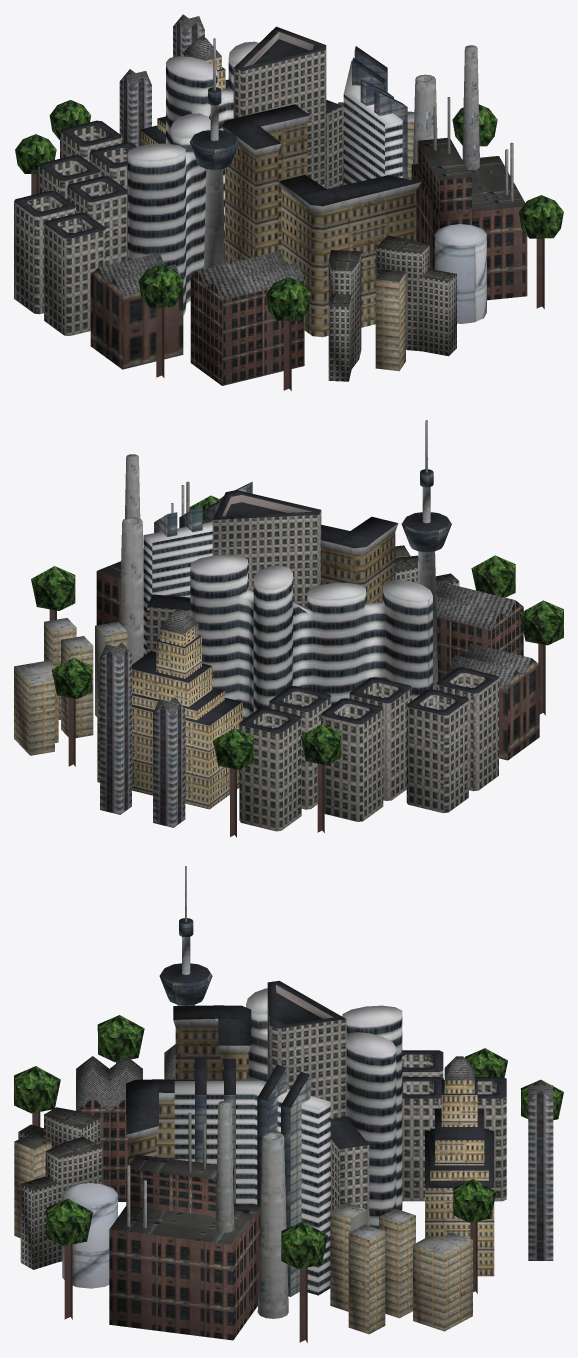
File: city_modern_3.glb
The picture shows the model from 3 angles, top to bottom: view 1: azimuth 30°, elevation 25°; view 2: azimuth 150°, elevation 25°; view 3: azimuth 270°, elevation 25°; orthographic projection. The views are drawn at different scales.
Parts seen in each view (by area): view 1: ModernCity_Tier4; view 2: ModernCity_Tier4; view 3: ModernCity_Tier4.
Boxes of the visible parts, x1,y1,x2,y2 form: ModernCity_Tier4: (14, 14, 563, 390); ModernCity_Tier4: (14, 420, 563, 837); ModernCity_Tier4: (14, 866, 563, 1342).
Size of the model in its own units: 3.96 by 2.56 by 4.01.
Materials: 1 (1 with a texture image).
